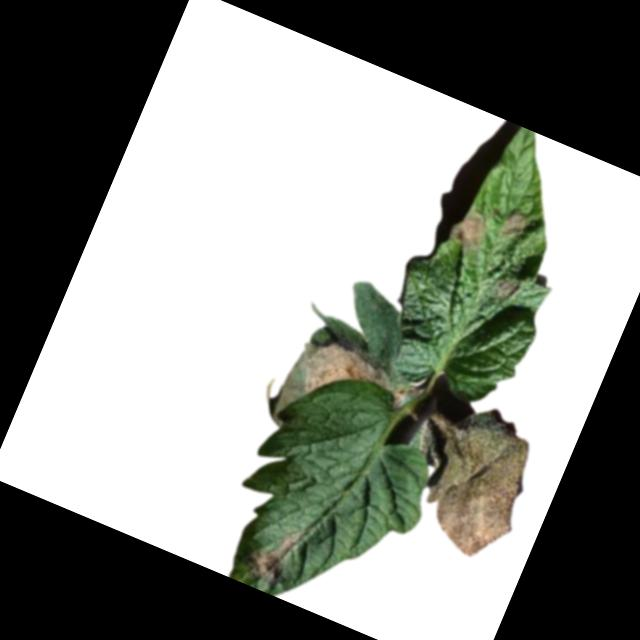Late_blight: (407, 397, 549, 566), (284, 327, 424, 430), (239, 514, 307, 589), (447, 204, 493, 255), (500, 207, 531, 239), (492, 270, 523, 301)
